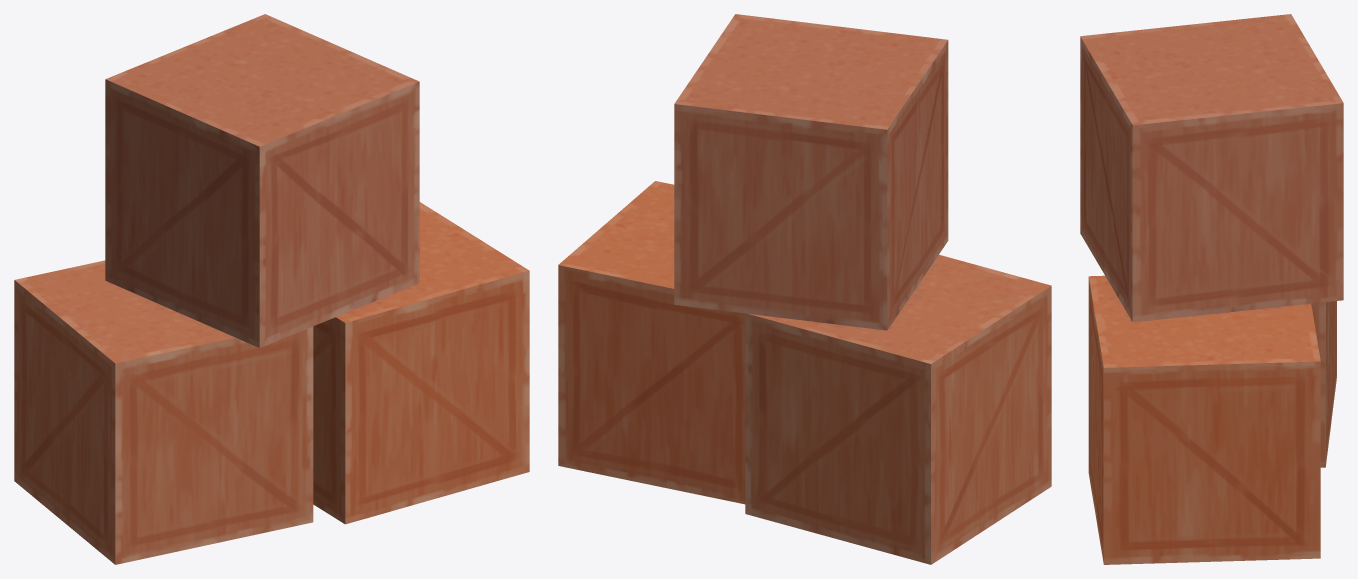
File: stack_crates.bundle.fbx
3 renders of one model, left to right at view 1: azimuth 30°, elevation 25°; view 2: azimuth 150°, elevation 25°; view 3: azimuth 270°, elevation 25°, orthographic. The views are drawn at different scales.
Visible parts, largest first — view 1: stack_crates_low, stack_crates, stack_crates_s02, stack_crates_s01, stack_crates_s07, stack_crates_s05, stack_crates_s06, stack_crates_s03; view 2: stack_crates, stack_crates_low, stack_crates_s07, stack_crates_s06, stack_crates_s00, stack_crates_s04, stack_crates_s02, stack_crates_s05, stack_crates_s01; view 3: stack_crates, stack_crates_low, stack_crates_s04, stack_crates_s06, stack_crates_s01, stack_crates_s03, stack_crates_s02, stack_crates_s05.
Boxes of the visible parts, bbox=[...] form: stack_crates_low: bbox=[14, 14, 529, 564]; stack_crates: bbox=[21, 16, 526, 561]; stack_crates_s02: bbox=[135, 94, 366, 555]; stack_crates_s01: bbox=[330, 129, 419, 286]; stack_crates_s07: bbox=[15, 57, 209, 446]; stack_crates_s05: bbox=[284, 265, 408, 523]; stack_crates_s06: bbox=[202, 14, 419, 143]; stack_crates_s03: bbox=[409, 292, 529, 506]; stack_crates: bbox=[564, 15, 1050, 561]; stack_crates_low: bbox=[558, 14, 1051, 564]; stack_crates_s07: bbox=[745, 74, 1051, 473]; stack_crates_s06: bbox=[674, 14, 872, 259]; stack_crates_s00: bbox=[745, 406, 1051, 563]; stack_crates_s04: bbox=[558, 181, 728, 477]; stack_crates_s02: bbox=[721, 35, 1005, 360]; stack_crates_s05: bbox=[662, 312, 768, 503]; stack_crates_s01: bbox=[674, 255, 738, 300]; stack_crates: bbox=[1081, 15, 1340, 562]; stack_crates_low: bbox=[1080, 14, 1343, 564]; stack_crates_s04: bbox=[1097, 289, 1343, 560]; stack_crates_s06: bbox=[1099, 44, 1343, 252]; stack_crates_s01: bbox=[1103, 102, 1343, 313]; stack_crates_s03: bbox=[1094, 313, 1244, 564]; stack_crates_s02: bbox=[1080, 36, 1326, 324]; stack_crates_s05: bbox=[1088, 251, 1326, 503].
Size of the model in its own units: 6.33 by 6 by 3.64.
1 material, 1 textured.
